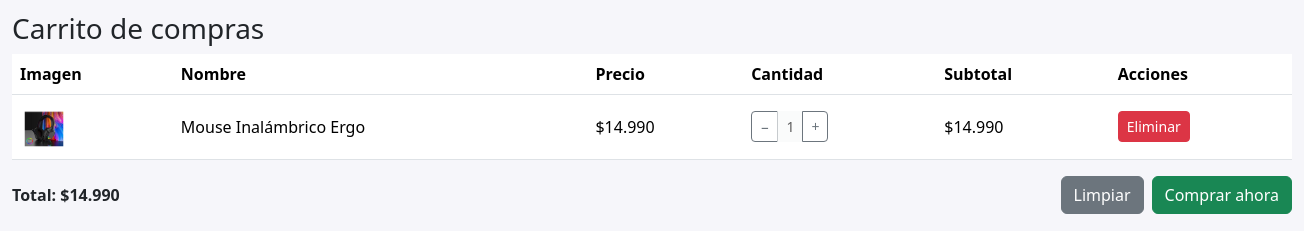
Páginas de la tienda › Carrito aumenta la cantidad y recalcula el total
Click the button "+" at [815, 127], box [802,111,828,142]
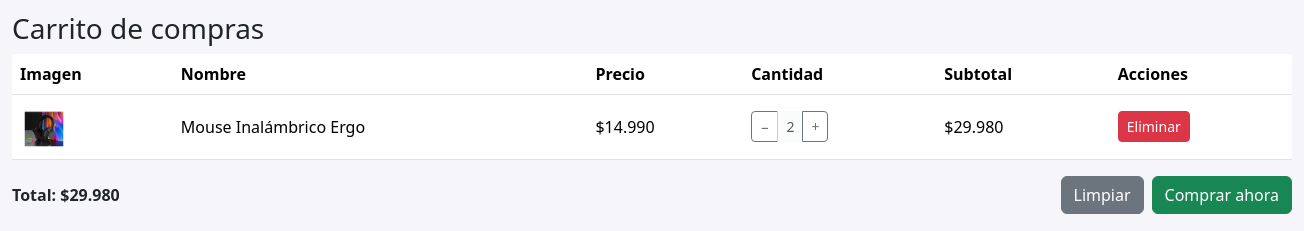
Result: the button with test id "qty" reads "2" at [786,117,794,136]
Result: the text with test id "cart-total" shows "29.980" at [60,184,120,206]
